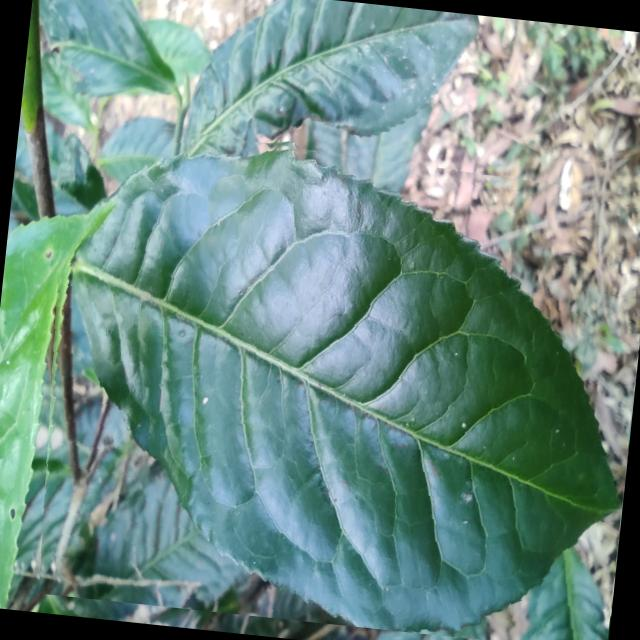Category D(7+ days, Not for Tea): (17, 114, 640, 640)
